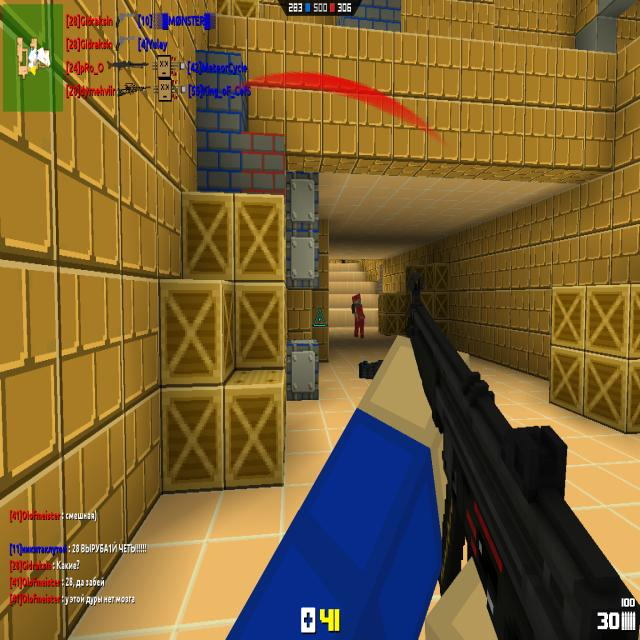enemy: (351, 293, 365, 338)
